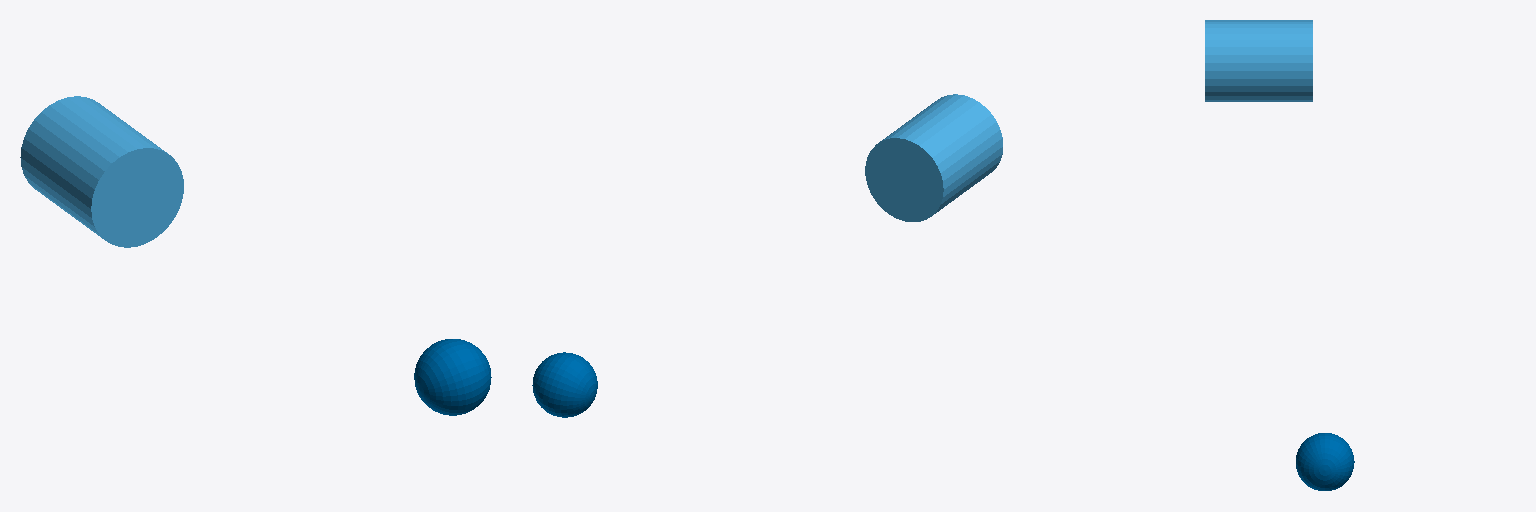
The robot description file, URDF, robot "hyq":
<?xml version="1.0" encoding="utf-8"?>
<robot name="hyq">
  <link name="base_link">
    <inertial>
      <origin xyz="0.0560691331299813 0.021493682967627666 0.0036081141592049586" rpy="0.0 0.0 0.0"/>
      <mass value="60.978"/>
      <inertia ixx="1.5727651692862368" ixy="0.02846518720991833" ixz="-0.20354038112779044" iyy="8.502743030521936" iyz="-0.004425323842294127" izz="9.196486342929056"/>
    </inertial>
  </link>

<!-- Joints -->
  <!-- HAA joint -->
  <joint name="lh_haa_joint" type="revolute">
    <origin rpy="3.14159265359 1.57079632679 0" xyz="-0.4435 0.139 0"/>
    <parent link="base_link"/>
    <child link="lh_hipassembly"/>
    <axis xyz="0 0 1"/>
    <dynamics damping="0.1" friction="0"/>
    <limit effort="173.0" lower="-0.733038285838" upper="0.401425727959" velocity="12.0"/>
    <safety_controller k_position="50" k_velocity="10" soft_lower_limit="-0.733038285838" soft_upper_limit="0.401425727959"/>
  </joint>
  <!-- HFE joint -->
  <joint name="lh_hfe_joint" type="revolute">
    <origin rpy="1.57079632679 0 0" xyz="0 -0.117 0"/>
    <parent link="lh_hipassembly"/>
    <child link="lh_upperleg"/>
    <axis xyz="0 0 1"/>
    <dynamics damping="0.1" friction="0"/>
    <limit effort="208" lower="-2.35619449019" upper="2.35619449019" velocity="12.0"/>
    <safety_controller k_position="50" k_velocity="10" soft_lower_limit="-2.35619449019" soft_upper_limit="2.35619449019"/>
  </joint>
  <!-- KFE joint -->
  <joint name="lh_kfe_joint" type="revolute">
    <origin rpy="0 0 0" xyz="0.36 0 0"/>
    <parent link="lh_upperleg"/>
    <child link="lh_lowerleg"/>
    <axis xyz="0 0 1"/>
    <dynamics damping="0.1" friction="0"/>
    <limit effort="249" lower="-2.77001205584" upper="-0.669857366915" velocity="12.0"/>
    <safety_controller k_position="50.0" k_velocity="10.0" soft_lower_limit="-2.77001205584" soft_upper_limit="-0.669857366915"/>
  </joint>
  <!-- Foot joint -->
  <joint name="lh_foot_joint" type="fixed">
    <origin rpy="1.57079632679 0 -1.57079632679" xyz="0.38 0 0"/>
    <parent link="lh_lowerleg"/>
    <child link="lh_foot"/>
  </joint>
  <!-- Links -->
  <!-- Hip assembly link -->
  <link name="lh_hipassembly">
    <inertial>
      <origin xyz="-0.010027 -0.010608 0.003644"/>
      <mass value="4.973275"/>
      <inertia ixx="0.011231" ixy="-0.000592" ixz="0.000225" iyy="0.015768" iyz="0.000224" izz="0.016863"/>
    </inertial>
    <visual>
      <origin rpy="0 -1.57079632679 -1.57079632679" xyz="0 -0.046 0"/>
      <geometry>
         --&gt;

        <cylinder length="0.117" radius="0.0444"/>
      </geometry>
    </visual>
  </link>
  <!-- Upper leg link -->
  <link name="lh_upperleg">
    <inertial>
      <origin xyz="0.107987 -0.011459 -0.002121"/>
      <mass value="5.877927"/>
      <inertia ixx="0.016432" ixy="0.001863" ixz="0.003897" iyy="0.075737" iyz="-0.00024" izz="0.079267"/>
    </inertial>
    <visual>
      <origin rpy="0 0 0" xyz="0 0 0"/>
      <geometry>
        <mesh filename="package://hyqreal_description/meshes/leg/upperleg.dae" scale="0.001 0.001 0.001"/>
      </geometry>
    </visual>
    <collision>
      <origin rpy="0 0 0" xyz="0 0 0"/>
      <geometry>
        <mesh filename="package://hyqreal_description/meshes/leg/upperleg.dae" scale="0.001 0.001 0.001"/>
      </geometry>
    </collision>
  </link>
  <!-- Lower leg link -->
  <link name="lh_lowerleg">
    <inertial>
      <origin xyz="0.149302 -0.003801 -0.000624"/>
      <mass value="1.291954"/>
      <inertia ixx="0.001088" ixy="-0.000572" ixz="0.000118" iyy="0.029215" iyz="0.00046" izz="0.029772"/>
    </inertial>
    <visual>
      <origin rpy="0 0 0" xyz="0 0 0"/>
      <geometry>
        <mesh filename="package://hyqreal_description/meshes/leg/lowerleg.dae" scale="0.001 0.001 0.001"/>
      </geometry>
      <material name="white"/>
    </visual>
    <collision>
      <origin rpy="0 0 0" xyz="0 0 0"/>
      <geometry>
        <mesh filename="package://hyqreal_description/meshes/leg/lowerleg_decimated.dae" scale="0.001 0.001 0.001"/>
      </geometry>
    </collision>
  </link>
  <!-- Foot link -->
  <link name="lh_foot">
    <visual>
      <origin rpy="0.0 0.0 0.0" xyz="0.0 0.0 0.0"/>
      <geometry>
        <sphere radius="0.032"/>
      </geometry>
      <material name="black"/>
    </visual>
    <collision>
      <origin rpy="0 0 0" xyz="0 0 0"/>
      <geometry>
        <sphere radius="0.032"/>
      </geometry>
    </collision>
  </link>

</robot>

--- Render facts (derived) ---
The picture shows the robot from 3 angles, left to right: view 1: azimuth 30°, elevation 25°; view 2: azimuth 150°, elevation 25°; view 3: azimuth 270°, elevation 25°; orthographic projection.
Robot: hyq — 5 links, 4 joints (3 revolute, 1 fixed); root link base_link; default pose: all joints at 0 but 1 set to mid-range because 0 is outside their limits (lh_kfe_joint = -1.72).
Links seen in each view (by area): view 1: lh_hipassembly, lh_foot; view 2: lh_hipassembly, lh_foot; view 3: lh_hipassembly, lh_foot.
Boxes of the visible links, x1,y1,x2,y2 form: lh_hipassembly: [20, 96, 183, 247]; lh_foot: [414, 339, 491, 415]; lh_hipassembly: [865, 94, 1002, 221]; lh_foot: [532, 352, 597, 417]; lh_hipassembly: [1205, 20, 1312, 101]; lh_foot: [1296, 433, 1354, 490].
Size in the robot's own frame: 0.4521 by 0.1615 by 0.3799 metres.
0 mesh visuals loaded from 2 distinct referenced files (none loaded); not drawn: 2 (reference not matched to a file when rendering).